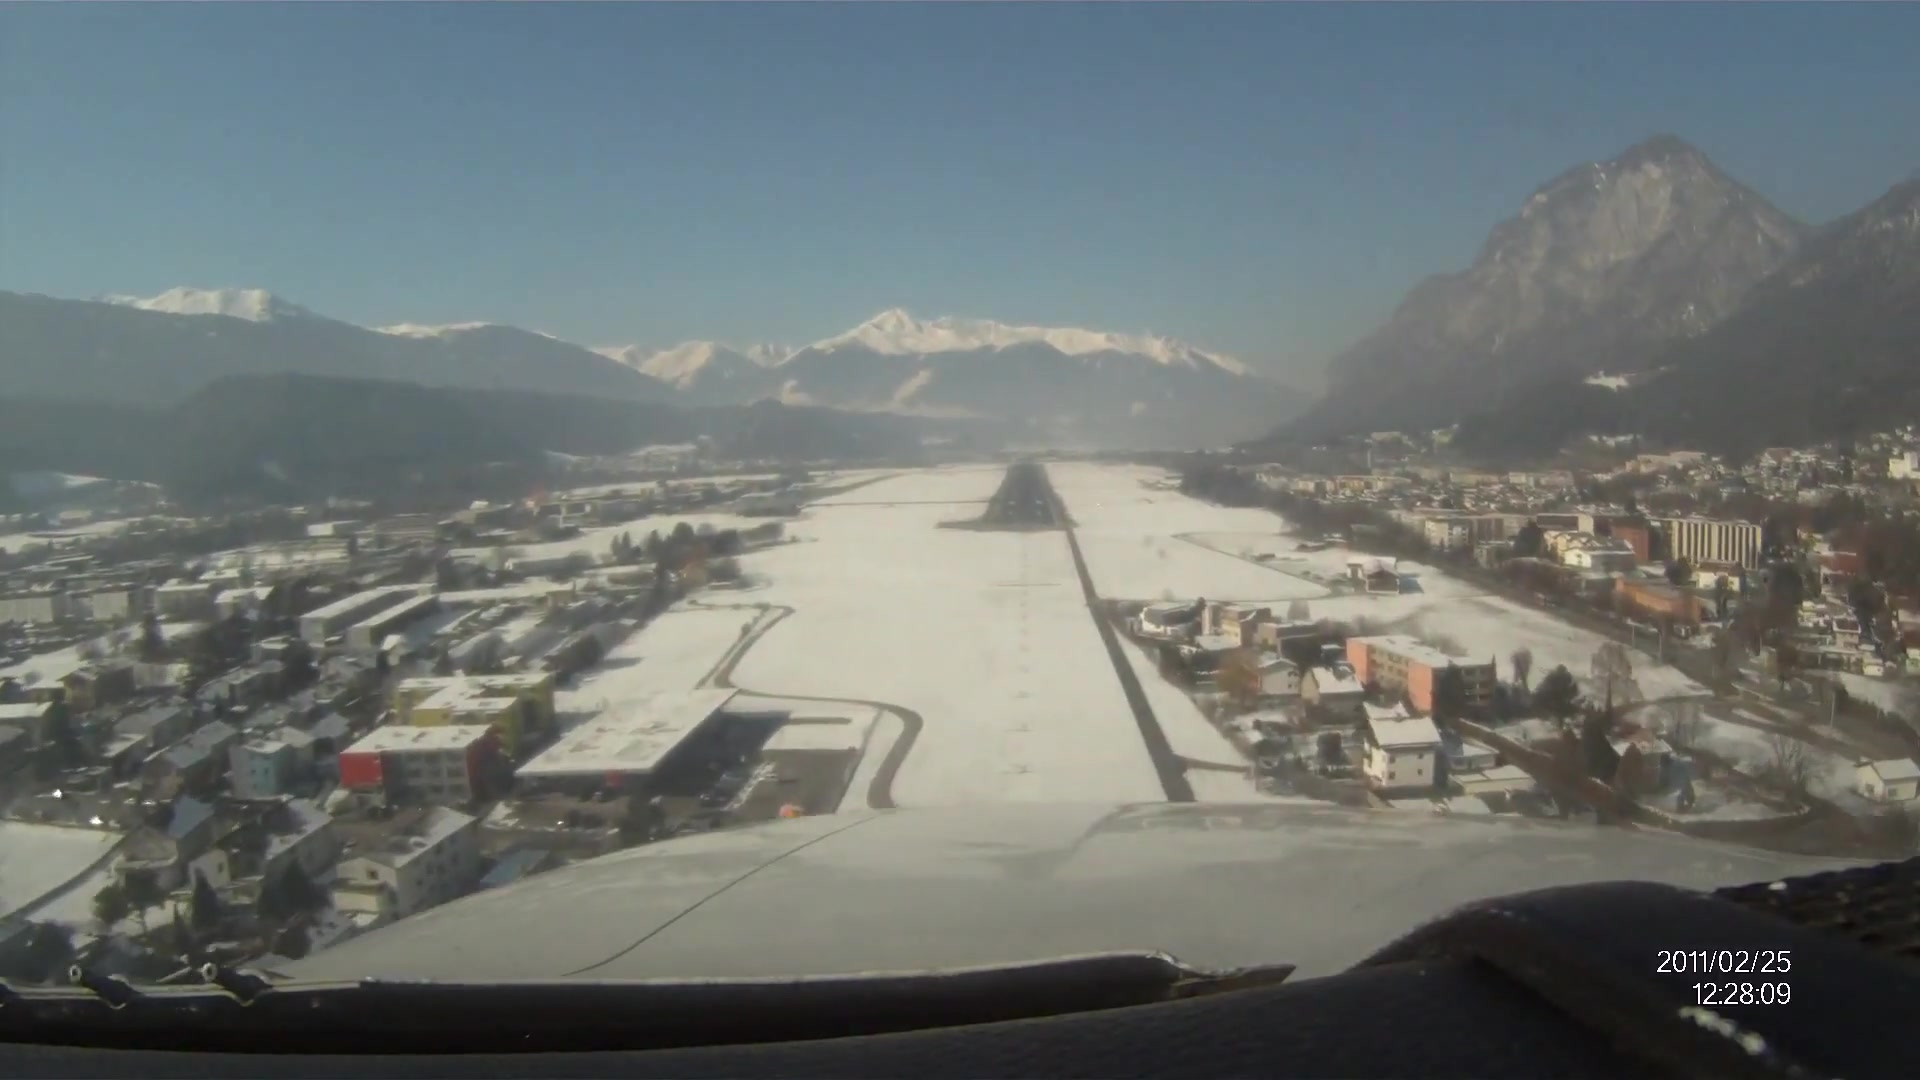runway: (996, 465, 1058, 527)
